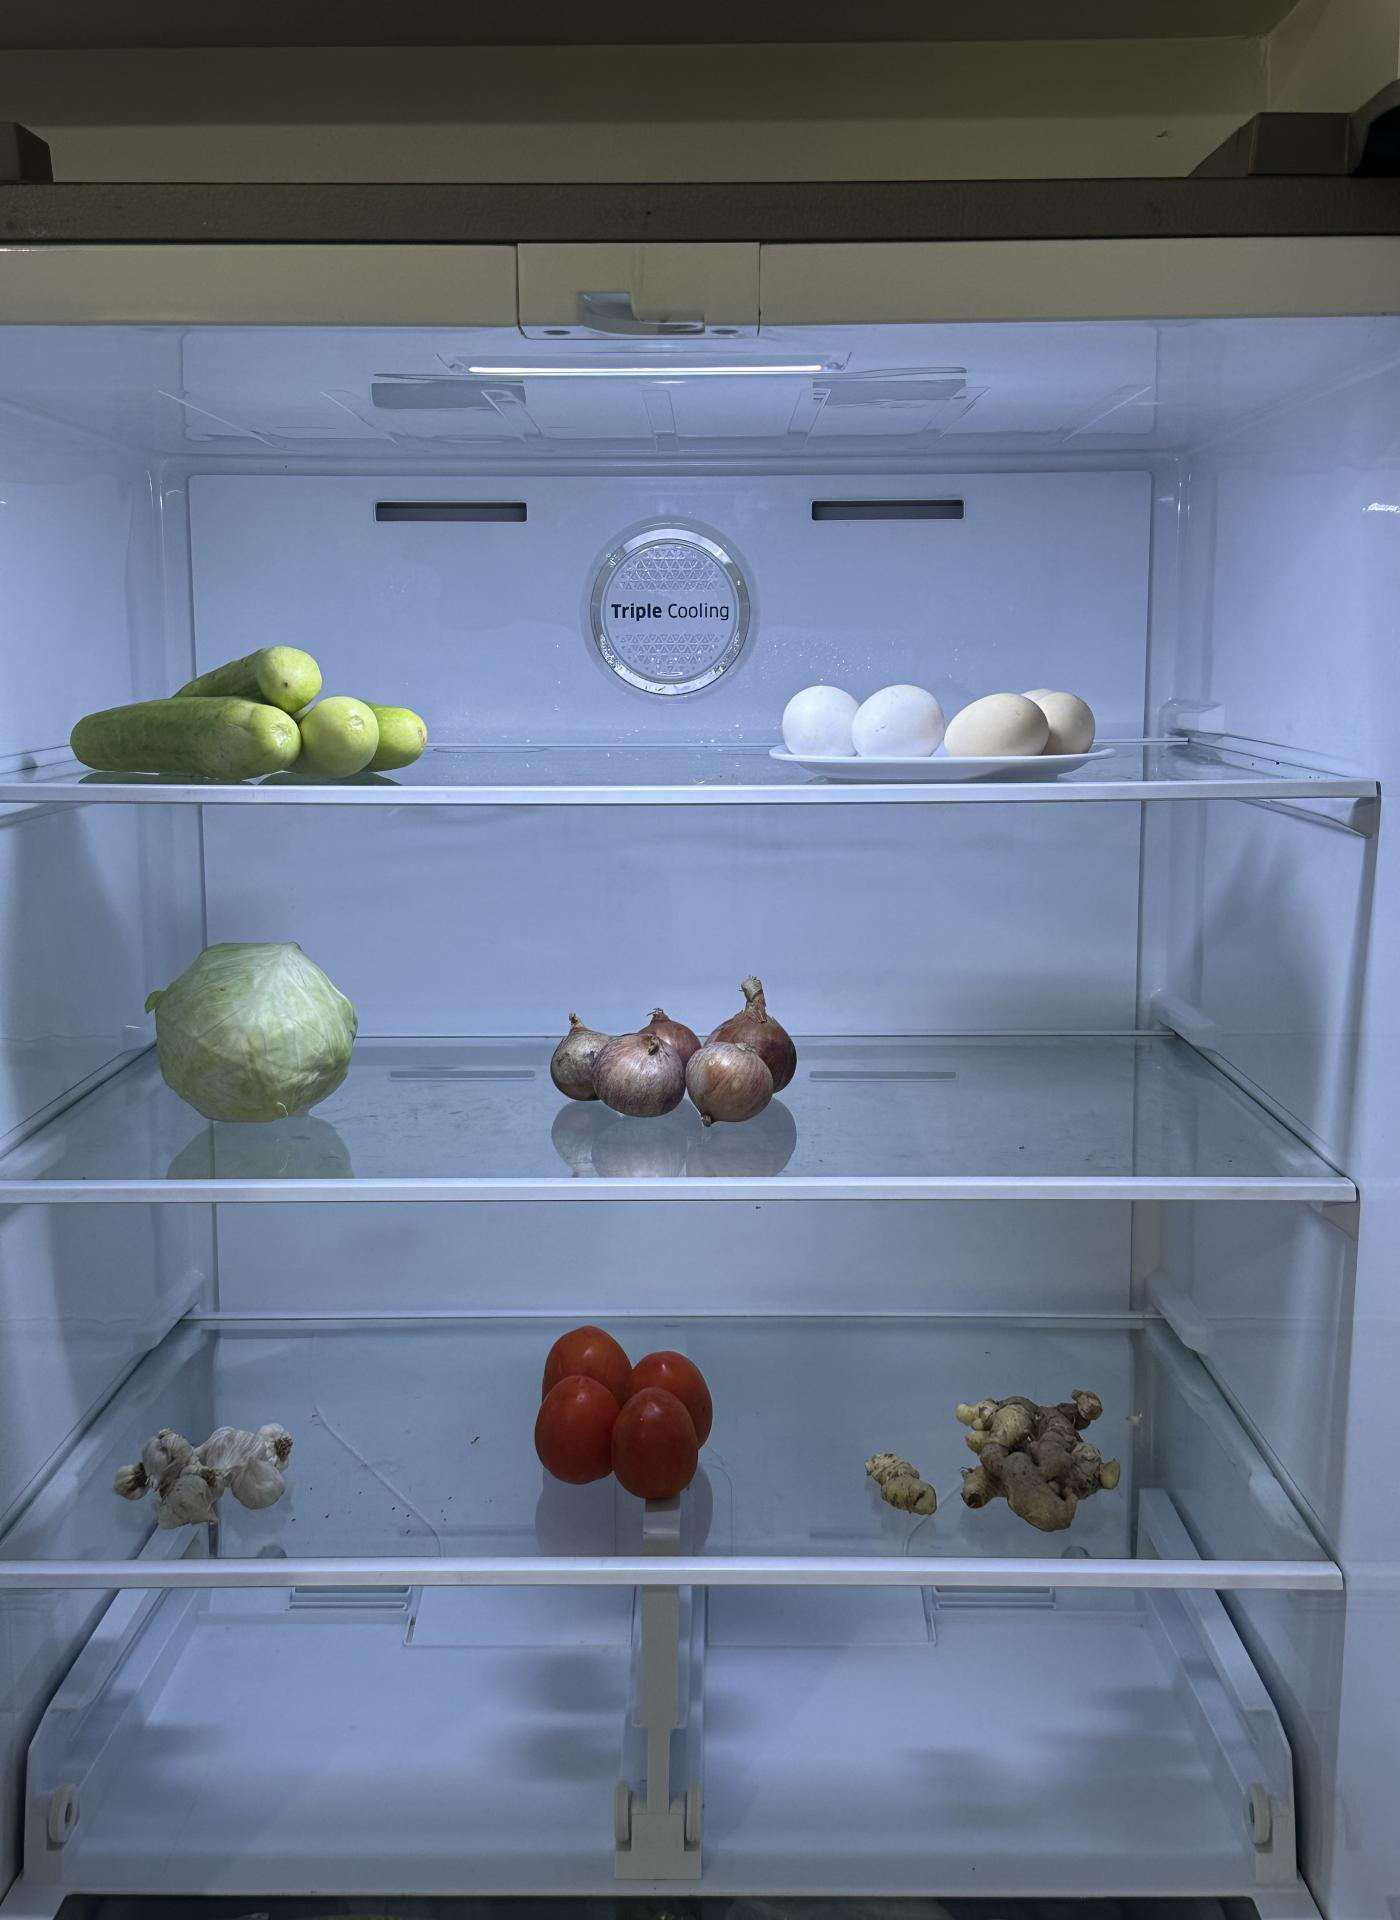cabbage: (146, 942, 364, 1136)
cucumber: (55, 648, 420, 802)
egg: (768, 680, 1103, 771)
garlic: (121, 1412, 304, 1537)
ginger: (956, 1382, 1120, 1534), (865, 1440, 945, 1525)
onion: (553, 979, 810, 1125)
tomato: (535, 1327, 725, 1512)
